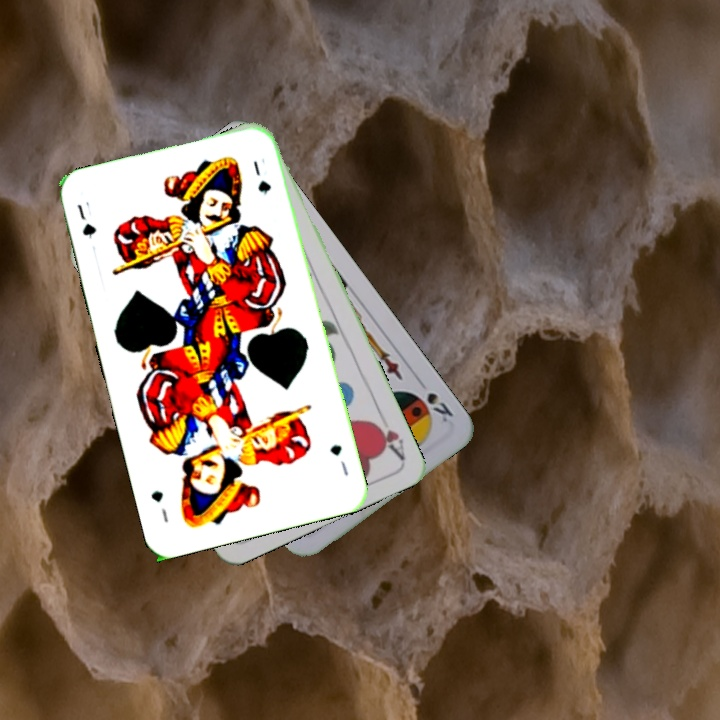GU: (73, 197, 99, 241), (326, 440, 351, 478)
HA: (367, 407, 408, 462)
SK: (422, 388, 456, 425)
